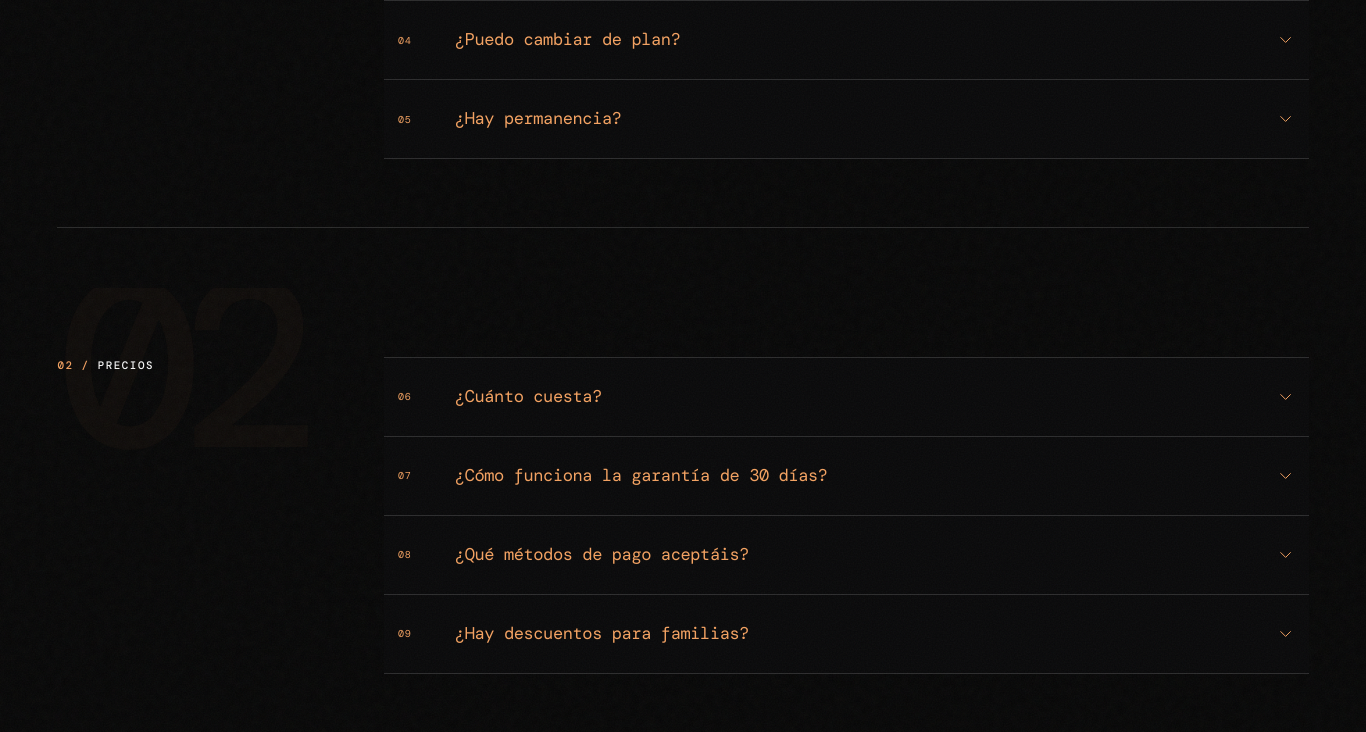
Scenario: /faq — preguntas frecuentes verificables › publica exactamente los cuatro planes y equivalencias desde Commercial_Config
(page scrolled)
// La tabla de precios vive dentro de la respuesta "¿Cuánto cuesta?".
Click the button "06 ¿Cuánto cuesta?".
click(528, 396)  # box top-left (384, 358), bottom-right (1309, 436)
(page scrolled)
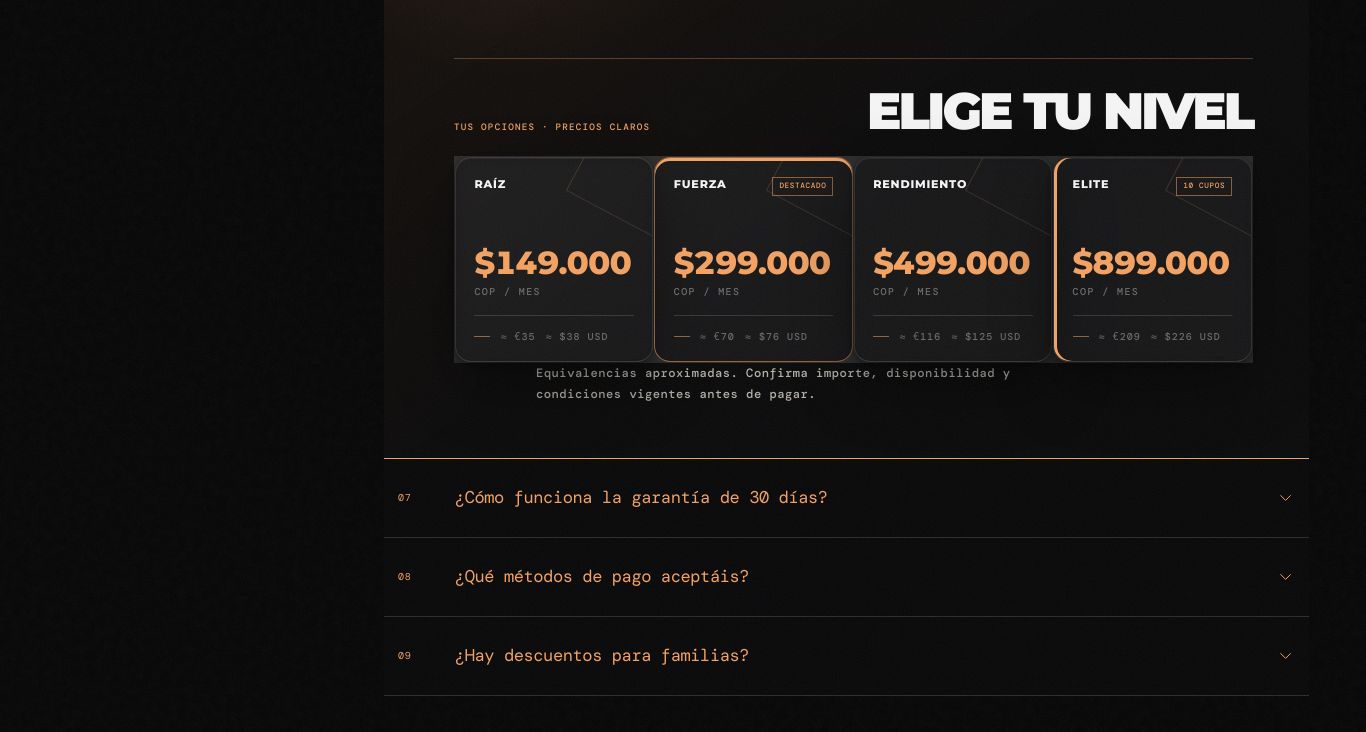
Expected: the element named "Opciones y precios mensuales BAYONA" is shown, top-left (454, 58), bottom-right (1253, 429)
Expected: the heading "RAÍZ" is shown, top-left (474, 176), bottom-right (506, 190)
Expected: the heading "FUERZA" is shown, top-left (674, 176), bottom-right (727, 190)
